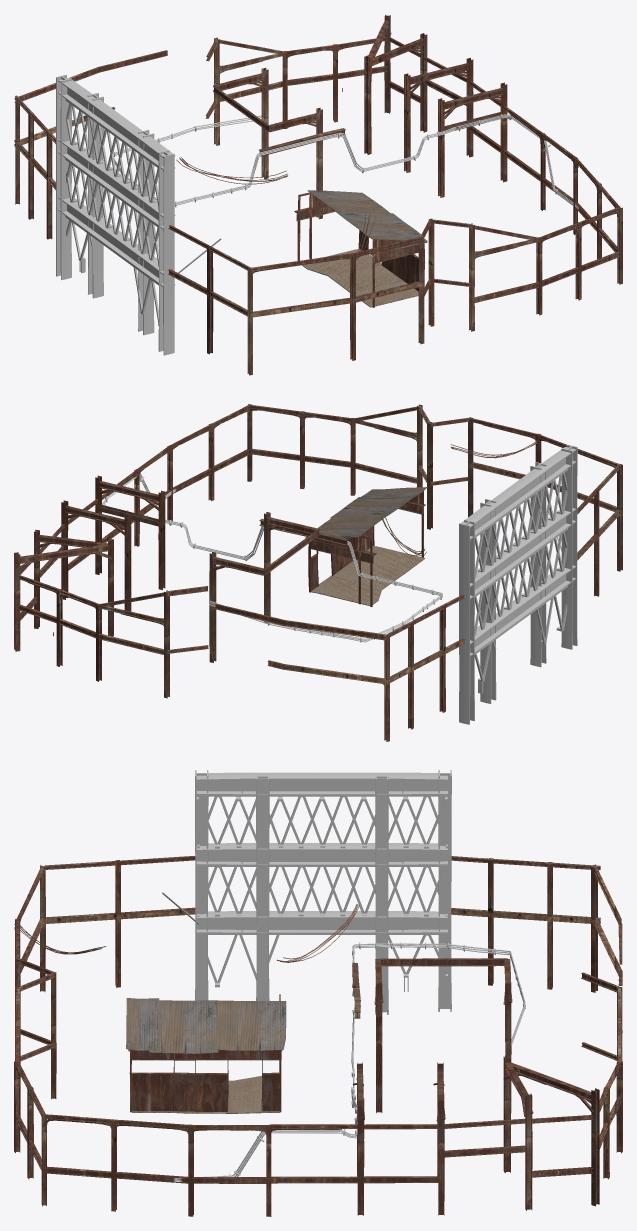
Rendered from SM_TheSamePlace_06_Block_01.fbx.
3 renders of one model, top to bottom at view 1: azimuth 30°, elevation 25°; view 2: azimuth 150°, elevation 25°; view 3: azimuth 270°, elevation 25°, orthographic. The views are drawn at different scales.
Parts seen in each view (by area): view 1: BuildingBase.001, ipn_Assembly.001, ipn_Assembly.002, Verranda, Wire; view 2: BuildingBase.001, ipn_Assembly.001, ipn_Assembly.002, Verranda, Wire; view 3: BuildingBase.001, ipn_Assembly.001, Verranda, ipn_Assembly.002, Wire.
Boxes of the visible parts, x1=… form: BuildingBase.001: x1=56, y1=74, x2=221, y2=355; ipn_Assembly.001: x1=14, y1=14, x2=545, y2=239; ipn_Assembly.002: x1=168, y1=134, x2=622, y2=375; Verranda: x1=294, y1=190, x2=427, y2=307; Wire: x1=113, y1=114, x2=578, y2=260; BuildingBase.001: x1=459, y1=444, x2=577, y2=724; ipn_Assembly.001: x1=14, y1=469, x2=465, y2=741; ipn_Assembly.002: x1=136, y1=404, x2=622, y2=596; Verranda: x1=305, y1=487, x2=427, y2=606; Wire: x1=102, y1=440, x2=537, y2=642; BuildingBase.001: x1=162, y1=770, x2=451, y2=1014; ipn_Assembly.001: x1=266, y1=856, x2=622, y2=1216; Verranda: x1=126, y1=994, x2=286, y2=1113; ipn_Assembly.002: x1=14, y1=856, x2=268, y2=1216; Wire: x1=14, y1=904, x2=525, y2=1182.
Bounding box in the file's own units: 4118 × 1892 × 4431.
